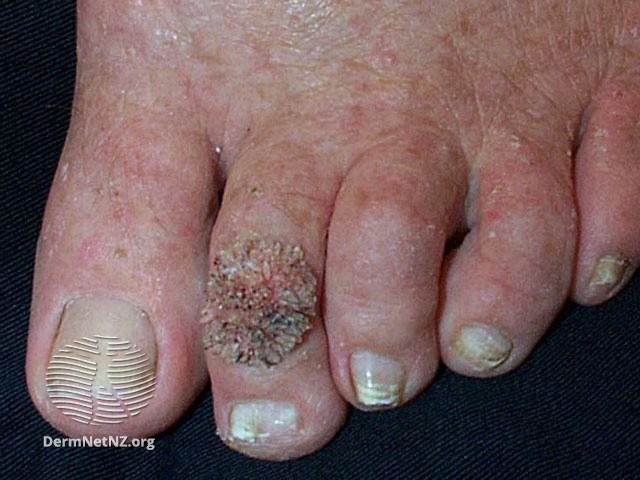Warts: (192, 230, 322, 377)
